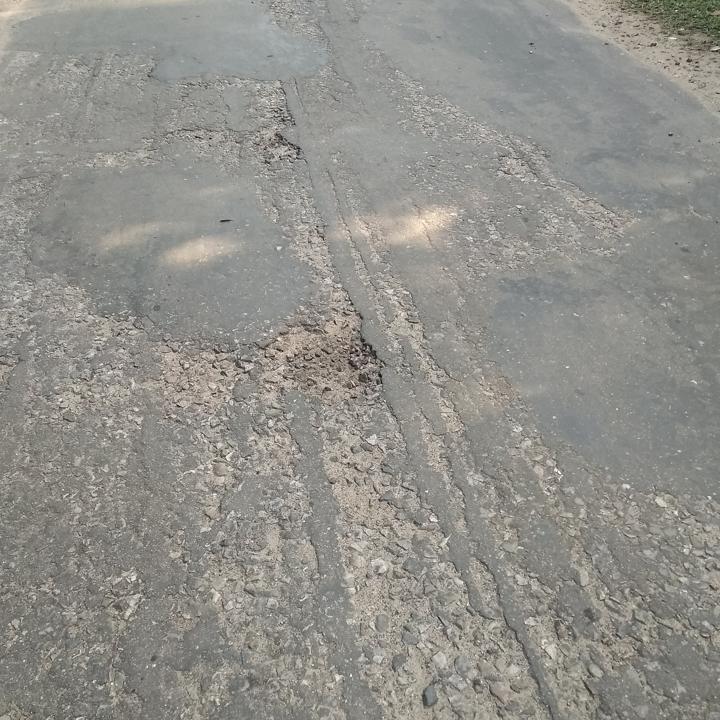pothole: (257, 315, 387, 401), (260, 132, 303, 169)
